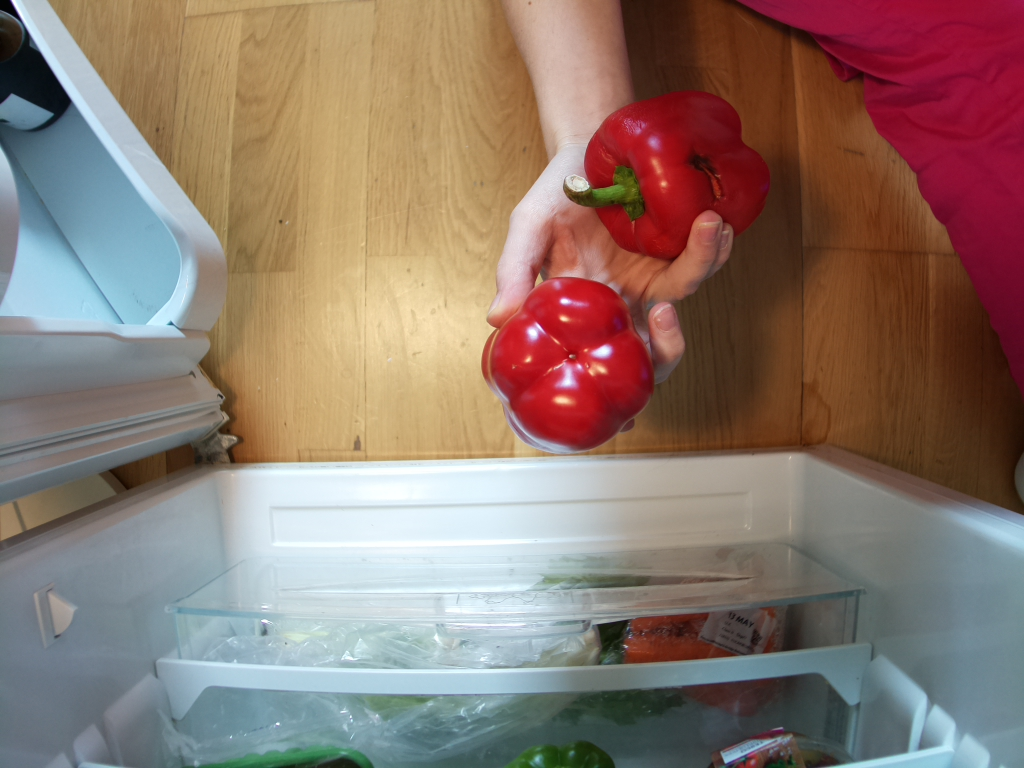pepper: (480, 277, 655, 450)
pepper-bad: (563, 90, 771, 261)
